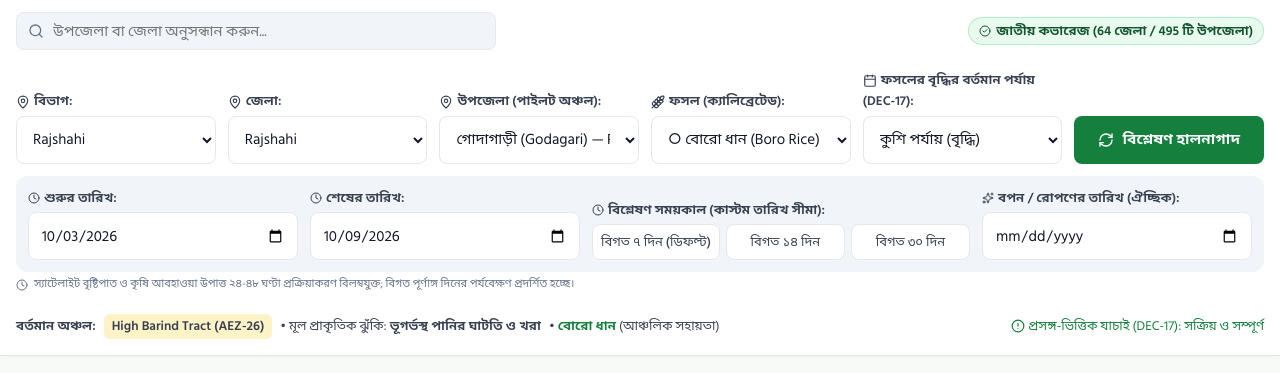
Test case: ContextSelector Component › supports keyboard navigation (ArrowDown, Enter, Escape) in search results
Type "tahir" into the dropdown with placeholder "উপজেলা বা জেলা অনুসন্ধান করুন..." at (256, 31), box [16, 12, 496, 50]
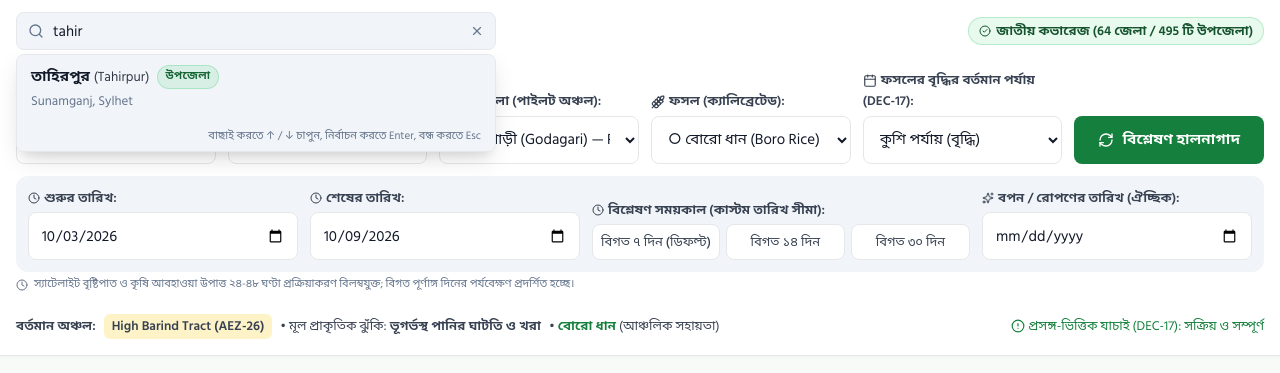
Note: Arrow down and press Enter to select
Press ArrowDown in the dropdown with placeholder "উপজেলা বা জেলা অনুসন্ধান করুন...", box [16, 12, 496, 50]
Press Enter in the dropdown with placeholder "উপজেলা বা জেলা অনুসন্ধান করুন...", box [16, 12, 496, 50]
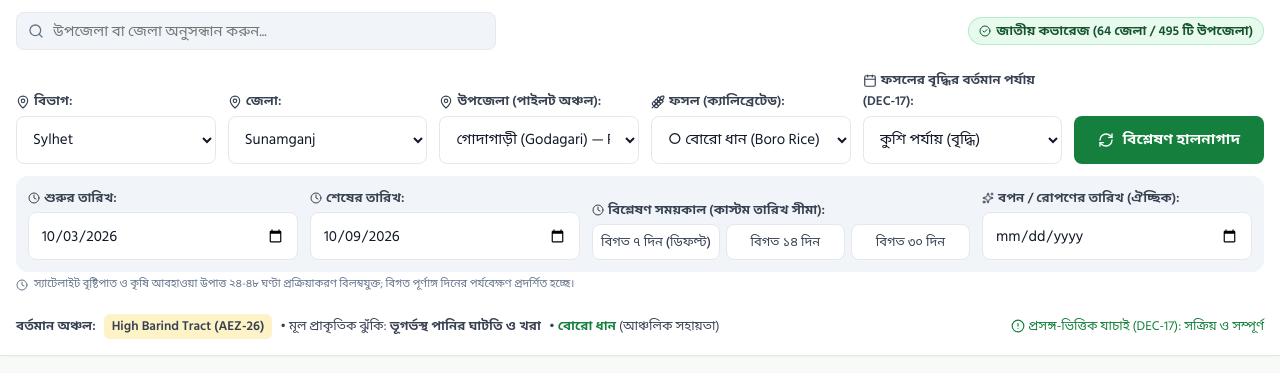
Note: Escape closes dropdown
Type "godagari" into the dropdown with placeholder "উপজেলা বা জেলা অনুসন্ধান করুন..." at (256, 31), box [16, 12, 496, 50]
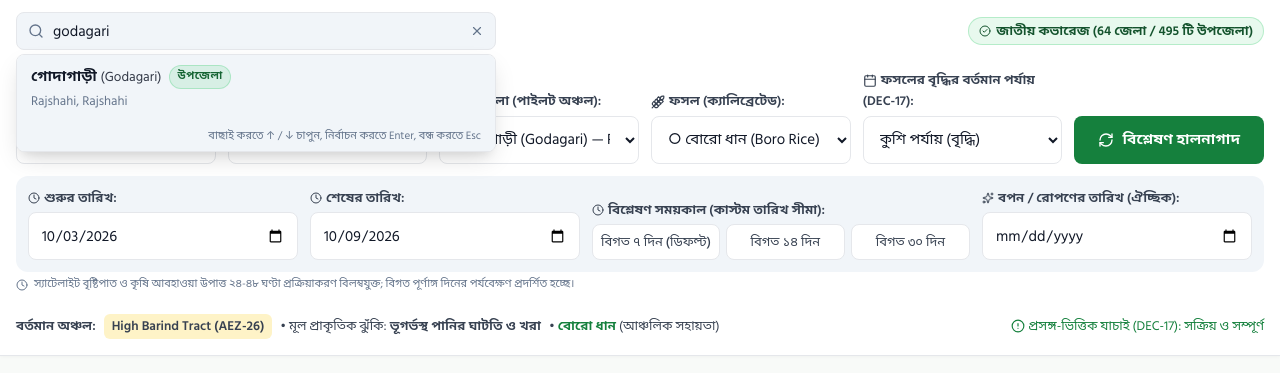
Result: the list is shown at [16, 54, 496, 152]
Press Escape in the dropdown with placeholder "উপজেলা বা জেলা অনুসন্ধান করুন...", box [16, 12, 496, 50]
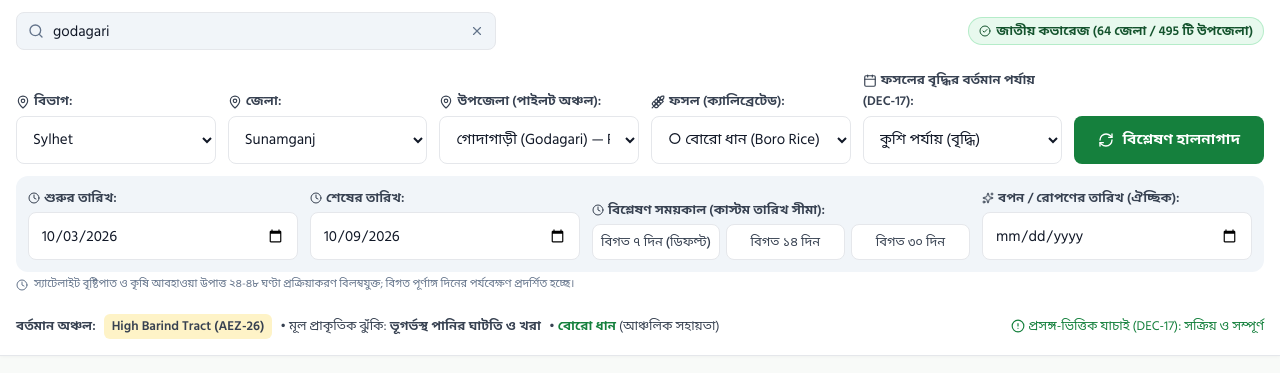
Result: the list is gone
